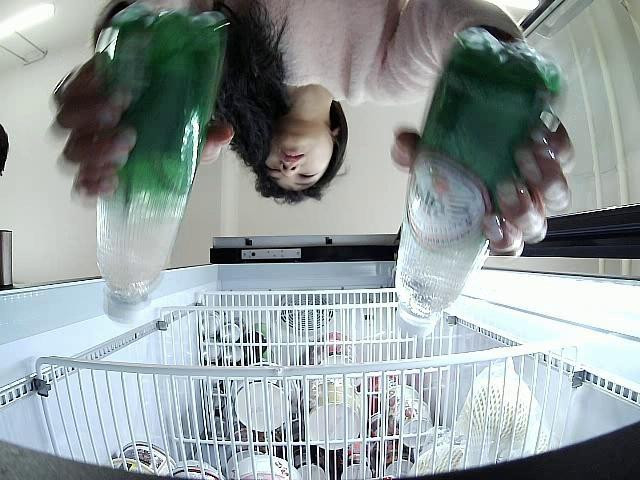18_trevi: (394, 26, 560, 328), (93, 5, 226, 322)
